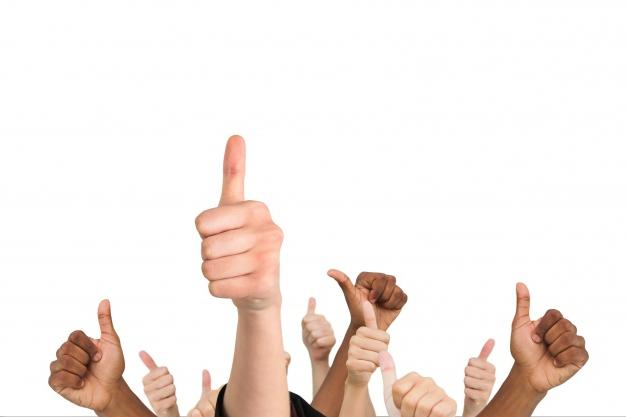thumbsup: (194, 135, 289, 304), (46, 298, 127, 411), (508, 280, 590, 390), (377, 347, 459, 417), (326, 267, 409, 329), (343, 300, 392, 378), (138, 350, 181, 415), (462, 337, 497, 405), (301, 297, 337, 357)
